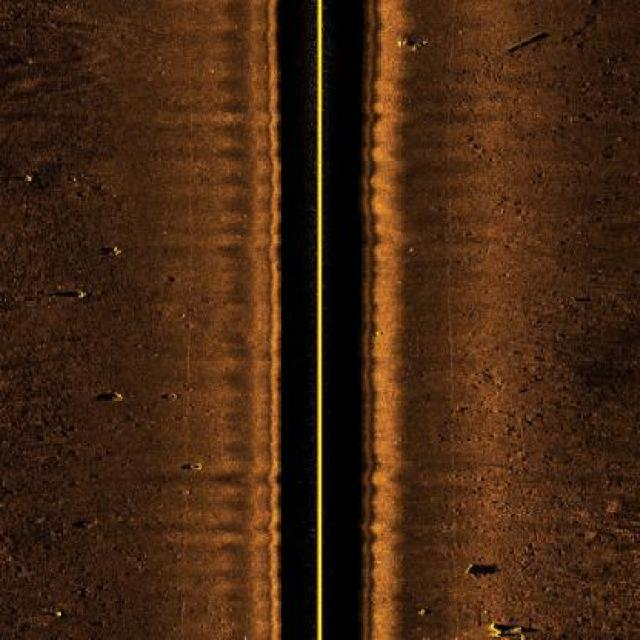mine: (472, 618, 537, 640), (45, 280, 90, 305), (462, 561, 500, 579)
other: (499, 28, 555, 57), (192, 461, 206, 474)
